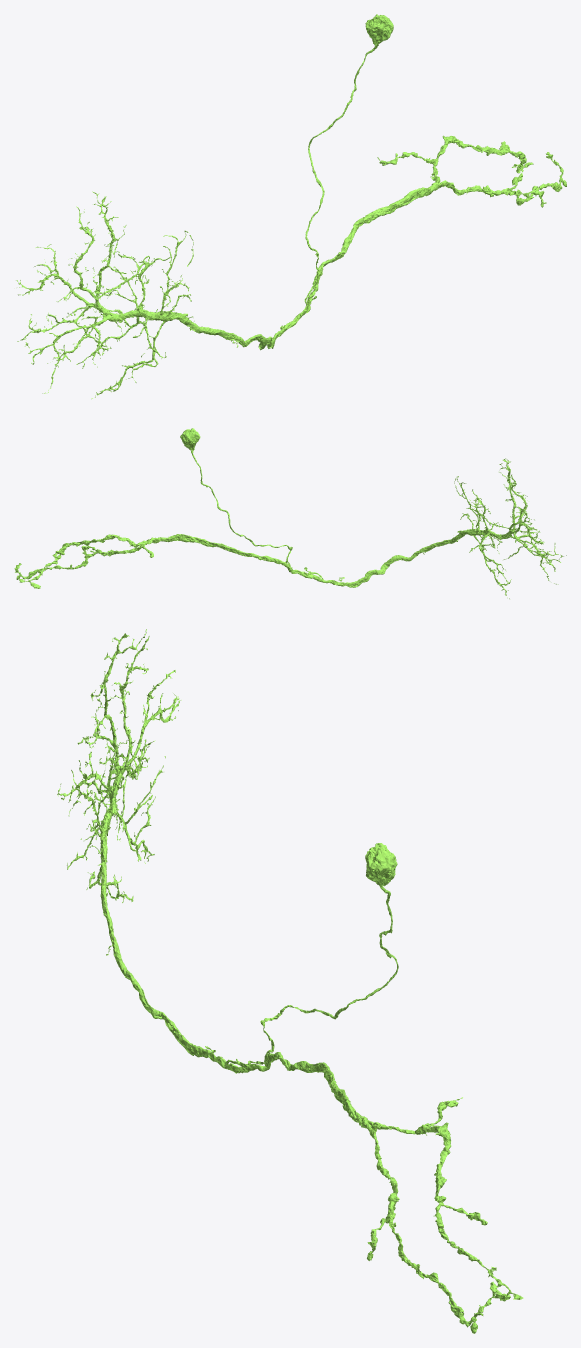
Rendered from VFB_00105gm6.glb.
3 renders of one model, top to bottom at view 1: azimuth 30°, elevation 25°; view 2: azimuth 150°, elevation 25°; view 3: azimuth 270°, elevation 25°, orthographic. The views are drawn at different scales.
Visible parts, largest first — view 1: VFB_00105gm6; view 2: VFB_00105gm6; view 3: VFB_00105gm6.
Part boxes in pixels (x1,y1,x2,y2): VFB_00105gm6: [16, 14, 566, 398]; VFB_00105gm6: [14, 428, 566, 599]; VFB_00105gm6: [57, 629, 523, 1333].
Bounding box in the file's own units: 0.12 × 0.0428 × 0.0528.
